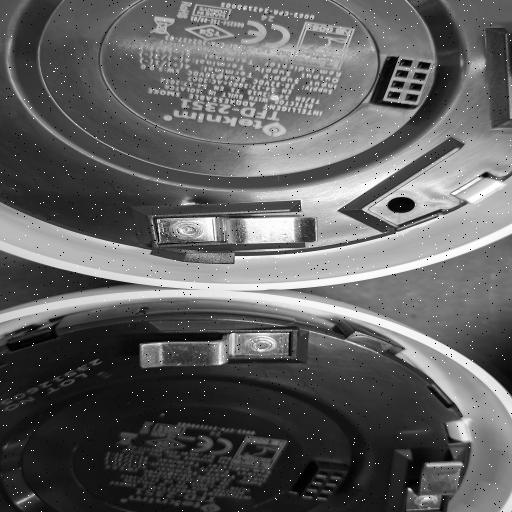konnektor: (374, 51, 440, 120), (282, 456, 356, 507)
yaysiz: (128, 196, 350, 258), (123, 319, 319, 372), (392, 438, 458, 512)
